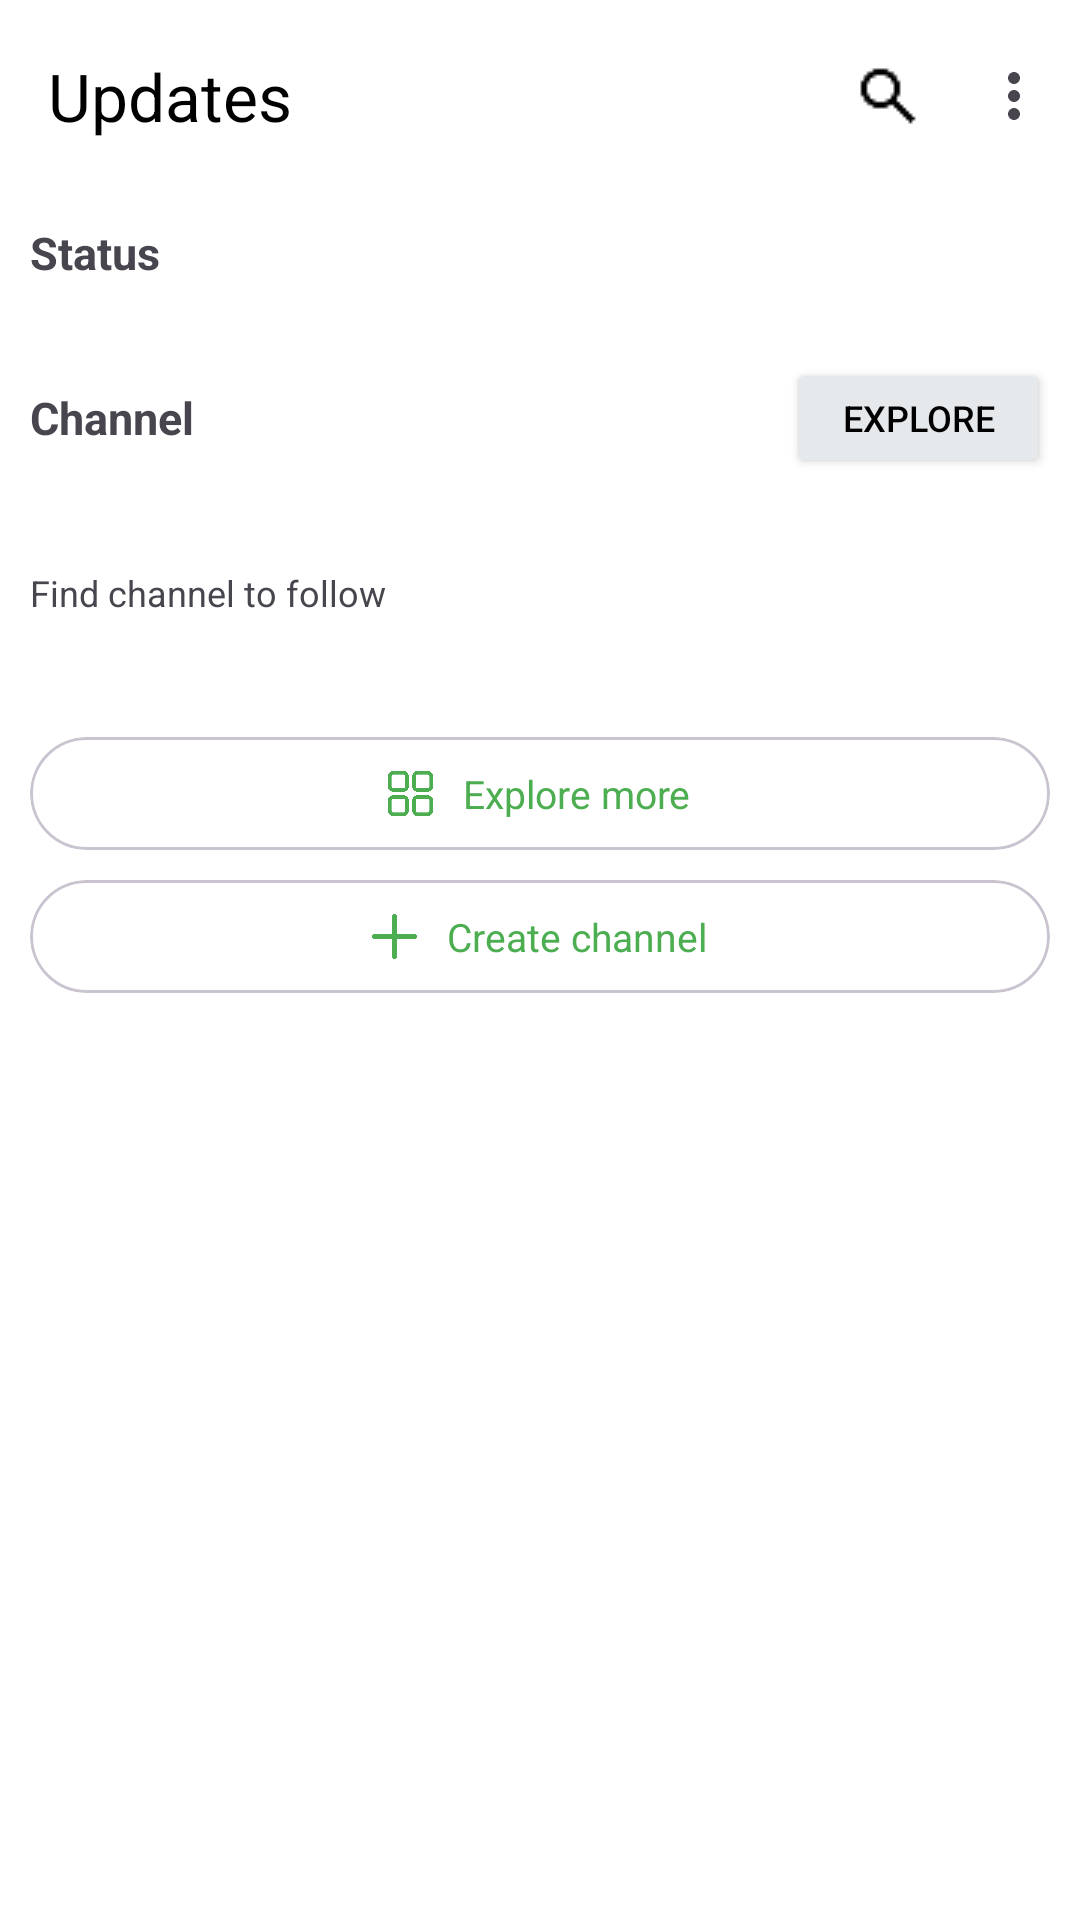

Screen size 1080 × 1920. Icon name, then its center in pixels as (x,y):
grid: (410,793)
plusgreen: (394,936)
